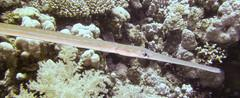Fistularia commersonii: (10, 14, 222, 81)
